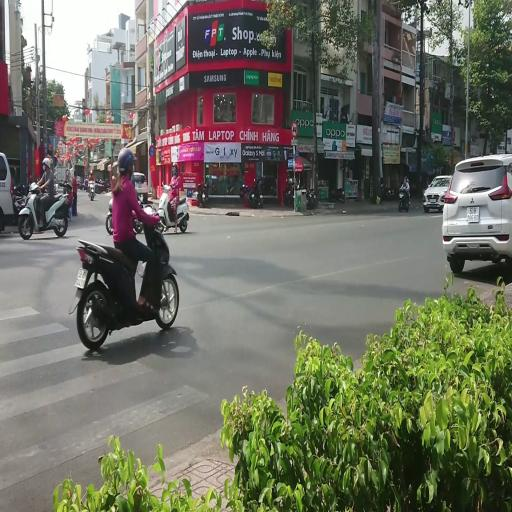bikes: (69, 205, 179, 351), (17, 180, 70, 240), (106, 196, 156, 234), (157, 182, 189, 232), (284, 178, 316, 208), (240, 177, 264, 208), (54, 182, 73, 220), (12, 182, 29, 219), (284, 177, 299, 206), (64, 183, 74, 220), (398, 186, 410, 212), (196, 182, 208, 207), (106, 197, 113, 235), (330, 187, 345, 203), (306, 187, 316, 209), (95, 178, 108, 194), (87, 180, 95, 201), (83, 177, 88, 191)
helmet: (118, 148, 136, 172), (42, 157, 50, 170), (29, 182, 38, 192), (172, 163, 178, 176), (108, 198, 112, 213), (404, 176, 408, 182), (90, 170, 93, 174)
